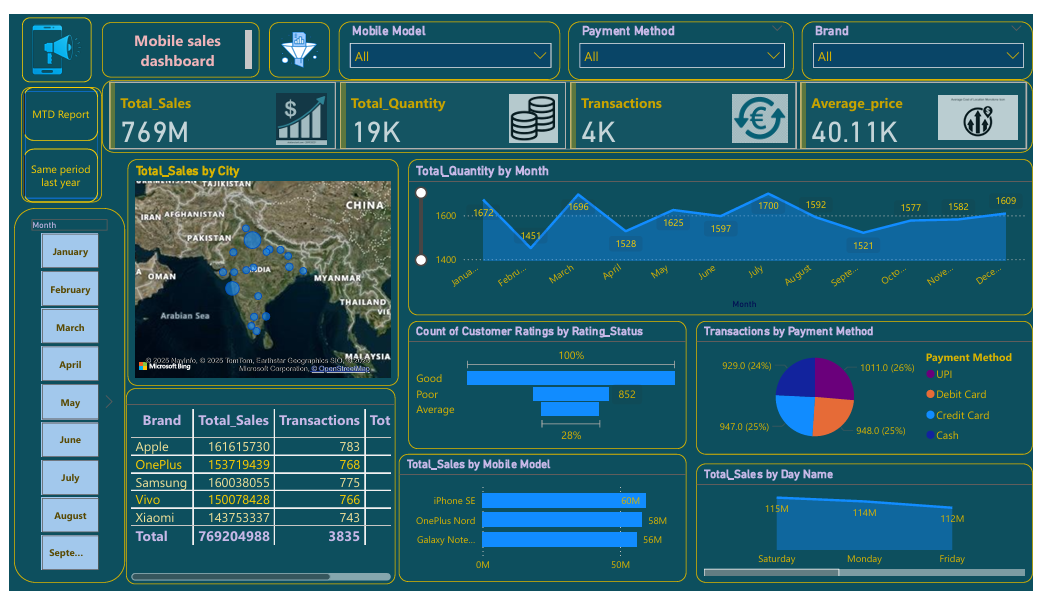

The dashboard page shown, as its layout file describes it:
{"tool":"powerbi","page":{"name":"Dashborad","canvas":[1280,720],"ordinal":0},"visuals":[{"type":"shape","box":[15.1,90.7,100.8,144.5],"z":1000},{"type":"slicer","fields":{"Values":["Query1.Date.Variation.Date Hierarchy.Month"]},"box":[5.7,242.4,138.9,467.7],"z":2000},{"type":"cardVisual","fields":{"Data":["Sales_Data.Total_Sales","Sales_Data.Total_Quantity","Sales_Data.Transactions","Sales_Data.Average_price"]},"box":[116.2,82.2,1163.6,90.7],"z":3000},{"type":"slicer","fields":{"Values":["Sales_Data.Mobile Model"]},"box":[412.4,8.5,276.4,73.7],"z":4000},{"type":"slicer","fields":{"Values":["Sales_Data.Payment Method"]},"box":[698.7,8.5,282,73.7],"z":5000},{"type":"slicer","fields":{"Values":["Sales_Data.Brand"]},"box":[990.7,8.5,289.1,73.7],"z":6000},{"type":"image","box":[324.6,9.9,76.5,69.4],"z":7000},{"type":"textbox","box":[116.2,9.9,197,69.4],"z":8000},{"type":"map","fields":{"Category":["Sales_Data.City"],"Size":["Sales_Data.Total_Sales"]},"box":[147.8,181.4,339.3,282.2],"z":8001},{"type":"lineChart","fields":{"Category":["Query1.Date.Variation.Date Hierarchy.Month"],"Y":["Sales_Data.Total_Quantity"]},"box":[498.9,181.4,781.1,194.9],"z":8002},{"type":"funnel","fields":{"Y":["CountNonNull(Sales_Data.Customer Ratings)"],"Category":["Sales_Data.Rating_Status"]},"box":[498.9,383,347.7,159.6],"z":8003},{"type":"pieChart","fields":{"Category":["Sales_Data.Payment Method"],"Y":["Sales_Data.Transactions"]},"box":[858.9,382.7,420.9,167.2],"z":8004},{"type":"clusteredBarChart","fields":{"Y":["Sales_Data.Total_Sales"],"Category":["Sales_Data.Mobile Model"]},"box":[487.1,549.3,359.5,159.6],"z":8005},{"type":"areaChart","fields":{"Category":["Query1.Day Name"],"Y":["Sales_Data.Total_Sales"]},"box":[858.9,561.3,420.9,148.8],"z":8006},{"type":"tableEx","fields":{"Values":["Sales_Data.Brand","Sales_Data.Total_Sales","Sales_Data.Transactions","Sales_Data.Total_Quantity"]},"box":[146,467,337,245],"z":8007},{"type":"pageNavigator","box":[18.4,90.7,92.1,144.6],"z":8008},{"type":"image","box":[15.6,4.3,87.9,80.8],"z":8009}]}

Visuals, with their boxes in screenshot pixels (x1, y1, x2, y2), scaled from the page's 1280x720 canvas onto the 1049x598 screenshot:
shape: {"left": 12, "top": 75, "right": 95, "bottom": 195}
slicer - Query1.Date.Variation.Date Hierarchy.Month: {"left": 5, "top": 201, "right": 119, "bottom": 590}
cardVisual - Sales_Data.Total_Sales x Sales_Data.Total_Quantity: {"left": 95, "top": 68, "right": 1048, "bottom": 144}
slicer - Sales_Data.Mobile Model: {"left": 338, "top": 7, "right": 564, "bottom": 68}
slicer - Sales_Data.Payment Method: {"left": 573, "top": 7, "right": 804, "bottom": 68}
slicer - Sales_Data.Brand: {"left": 812, "top": 7, "right": 1048, "bottom": 68}
image: {"left": 266, "top": 8, "right": 329, "bottom": 66}
textbox: {"left": 95, "top": 8, "right": 257, "bottom": 66}
map - Sales_Data.City x Sales_Data.Total_Sales: {"left": 121, "top": 151, "right": 399, "bottom": 385}
lineChart - Query1.Date.Variation.Date Hierarchy.Month x Sales_Data.Total_Quantity: {"left": 409, "top": 151, "right": 1048, "bottom": 313}
funnel - CountNonNull(Sales_Data.Customer Ratings) x Sales_Data.Rating_Status: {"left": 409, "top": 318, "right": 694, "bottom": 451}
pieChart - Sales_Data.Payment Method x Sales_Data.Transactions: {"left": 704, "top": 318, "right": 1048, "bottom": 457}
clusteredBarChart - Sales_Data.Total_Sales x Sales_Data.Mobile Model: {"left": 399, "top": 456, "right": 694, "bottom": 589}
areaChart - Query1.Day Name x Sales_Data.Total_Sales: {"left": 704, "top": 466, "right": 1048, "bottom": 590}
tableEx - Sales_Data.Brand x Sales_Data.Total_Sales: {"left": 120, "top": 388, "right": 396, "bottom": 591}
pageNavigator: {"left": 15, "top": 75, "right": 91, "bottom": 195}
image: {"left": 13, "top": 4, "right": 85, "bottom": 71}
